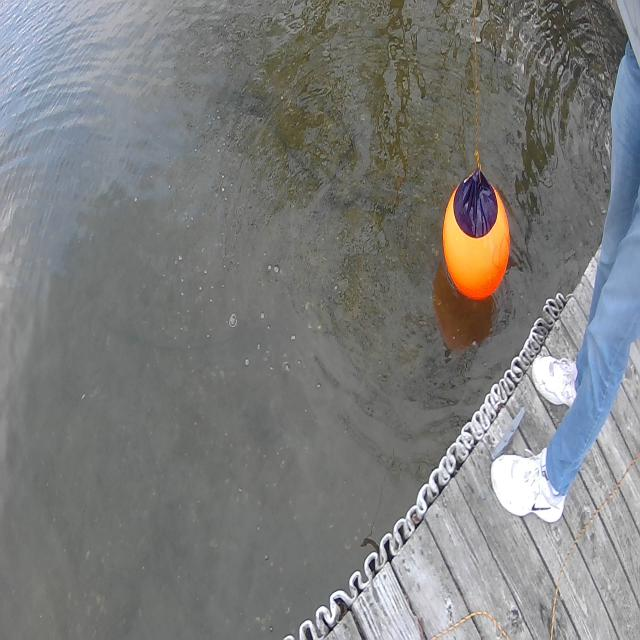Buoy: (435, 153, 525, 330)
